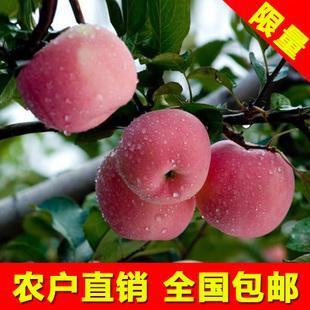apple: (19, 26, 135, 136), (114, 108, 212, 207), (197, 141, 295, 238)
